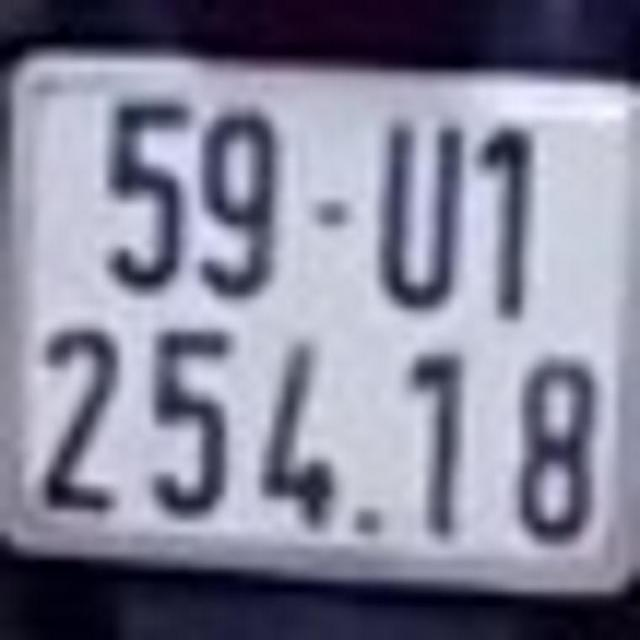1: (477, 132, 539, 318), (406, 351, 461, 524)
2: (44, 324, 124, 506)
4: (264, 334, 332, 516)
5: (154, 322, 238, 511), (111, 100, 190, 292)
8: (526, 362, 590, 541)
9: (203, 107, 280, 296)
U: (376, 119, 460, 308)
